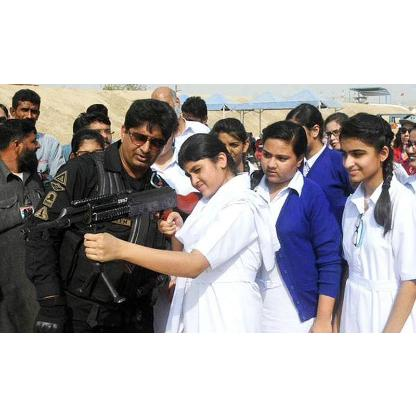gun: (27, 183, 181, 300)
